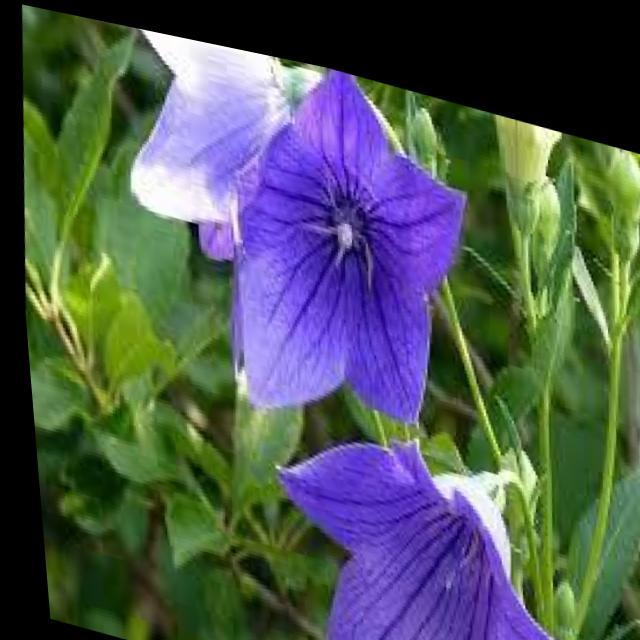Flower: (201, 34, 481, 435), (242, 394, 566, 640)
